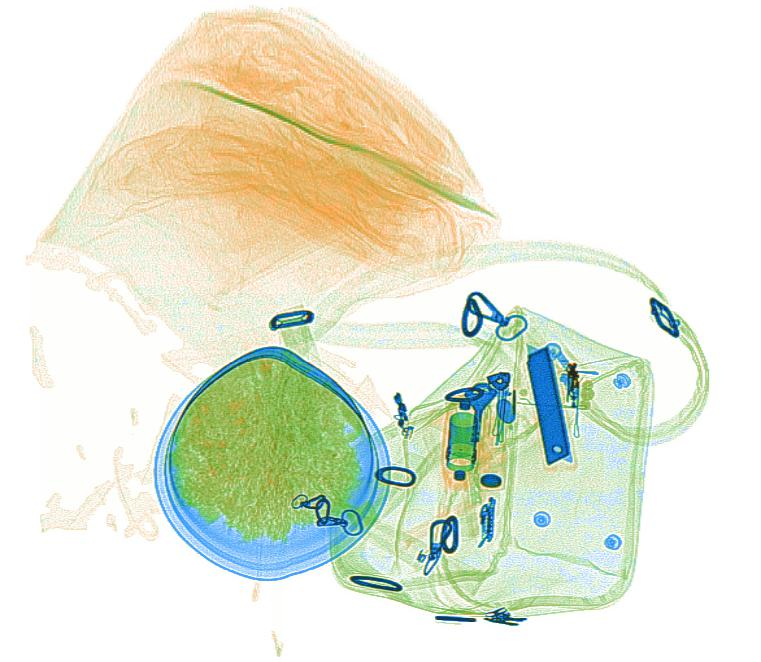knife: (522, 342, 576, 468)
